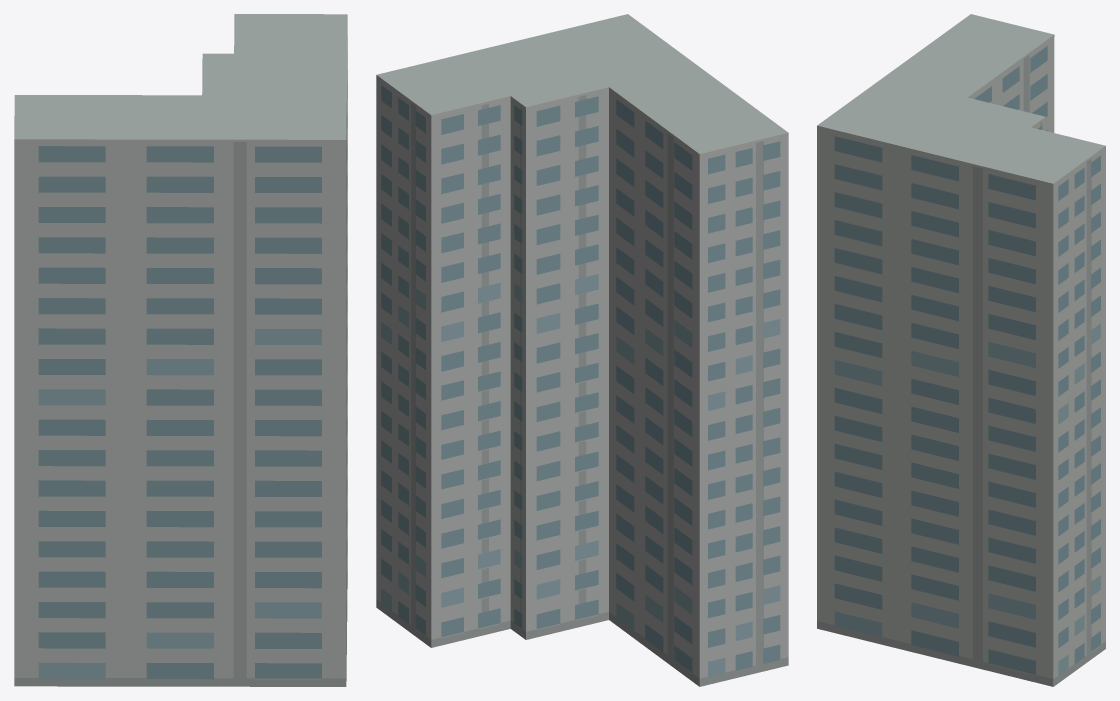
Rendered from residential-d8daefb6-3966-4340-868c-493d14d31c1d.glb.
3 renders of one model, left to right at view 1: azimuth 30°, elevation 25°; view 2: azimuth 150°, elevation 25°; view 3: azimuth 270°, elevation 25°, orthographic. The views are drawn at different scales.
Parts seen in each view (by area): view 1: residential-d8daefb6-3966-4340-868c-493d14d31c1d.tmp; view 2: residential-d8daefb6-3966-4340-868c-493d14d31c1d.tmp; view 3: residential-d8daefb6-3966-4340-868c-493d14d31c1d.tmp.
Part boxes in pixels (bbox=[...]): residential-d8daefb6-3966-4340-868c-493d14d31c1d.tmp: bbox=[14, 14, 347, 686]; residential-d8daefb6-3966-4340-868c-493d14d31c1d.tmp: bbox=[376, 14, 788, 686]; residential-d8daefb6-3966-4340-868c-493d14d31c1d.tmp: bbox=[817, 14, 1105, 686].
Size of the model in its own units: 40.54 by 56 by 29.14.
